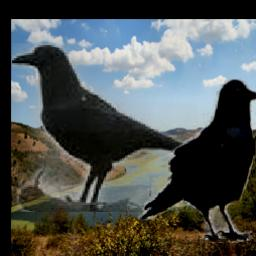Crow: (12, 43, 198, 212), (137, 76, 256, 243)
